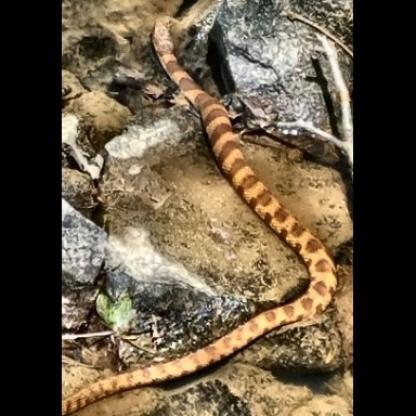Snake: (146, 8, 338, 398)
